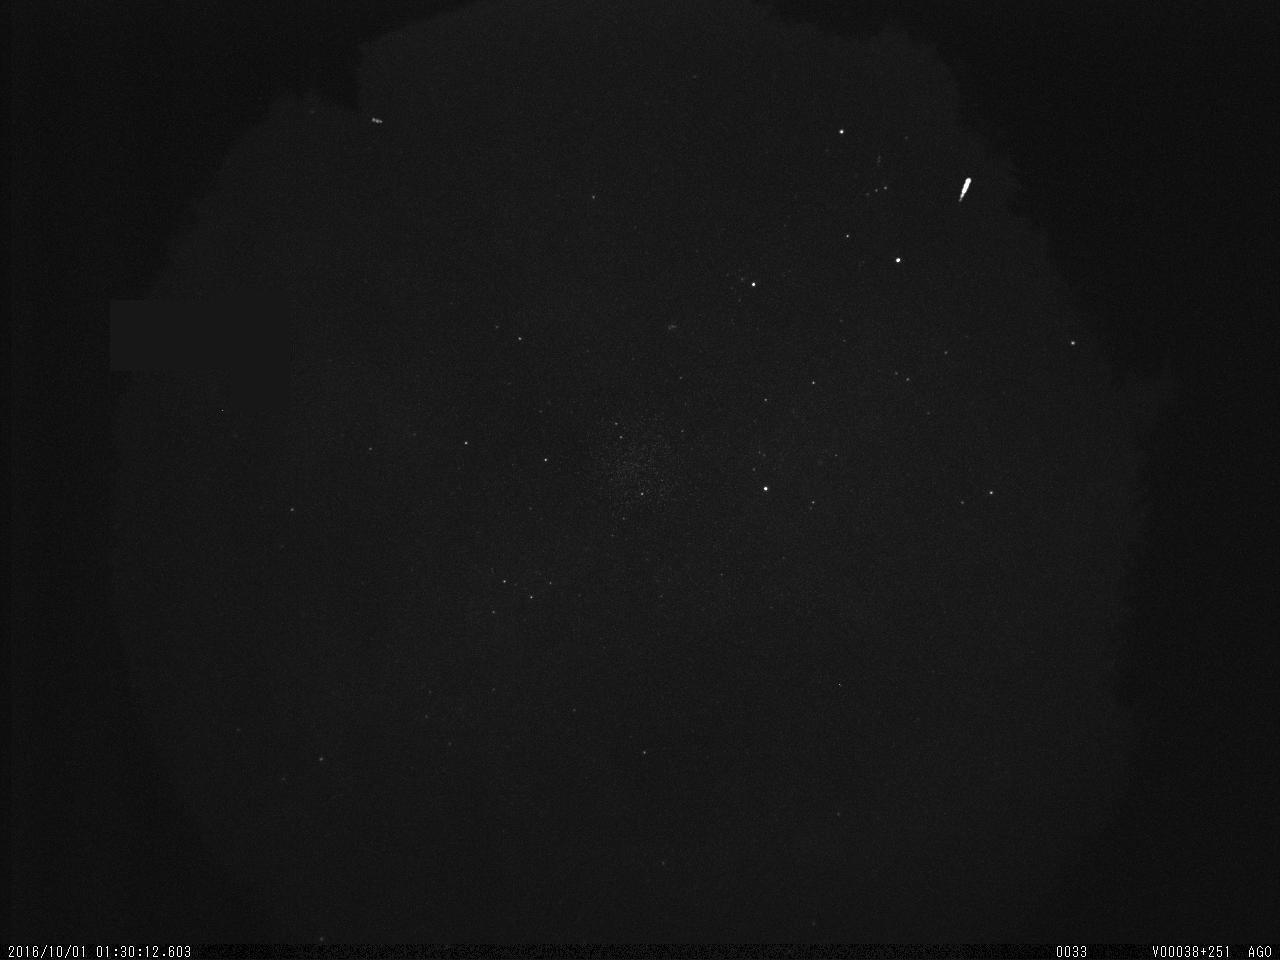meteor: (954, 171, 978, 208)
